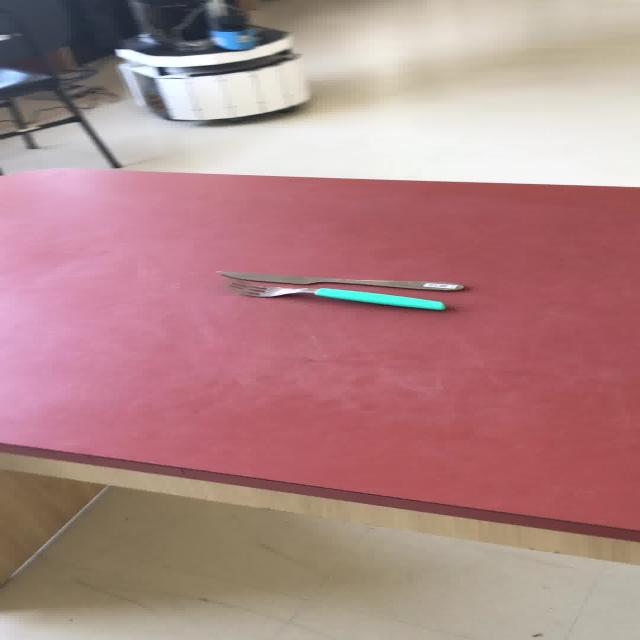fork: (227, 280, 445, 311)
knife fork: (213, 270, 464, 292)
